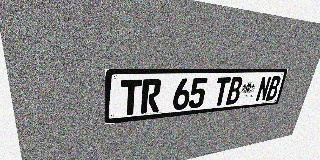5: (188, 78, 208, 109)
6: (172, 78, 192, 110)
B: (225, 77, 244, 105), (265, 76, 282, 101)
N: (255, 76, 272, 102)
R: (140, 79, 162, 114)
T: (120, 79, 142, 116), (212, 77, 231, 106)
